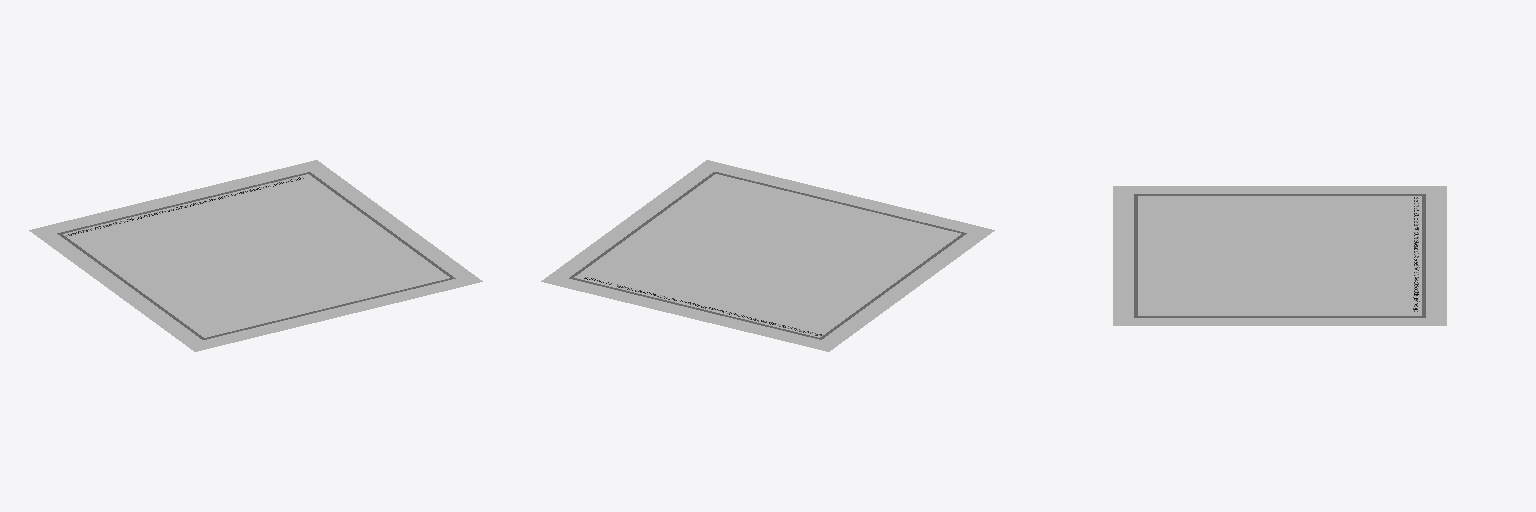
The picture shows the model from 3 angles: view 1: azimuth 30°, elevation 25°; view 2: azimuth 150°, elevation 25°; view 3: azimuth 270°, elevation 25°; orthographic projection.
Bounding box in the file's own units: 1 × 0 × 1.
1 materials, 1 textured.